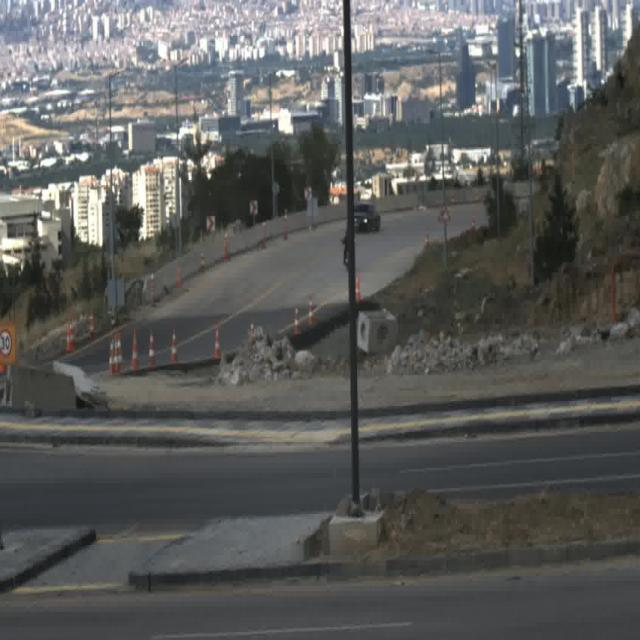Car: (354, 206, 380, 234)
Motorcycle: (340, 229, 350, 267)
